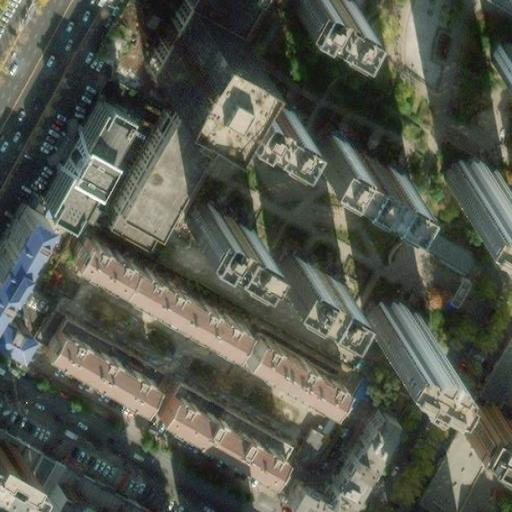building: (409, 307, 512, 511), (67, 235, 243, 352), (80, 96, 192, 237), (279, 406, 391, 512), (0, 432, 141, 512), (151, 391, 278, 479), (35, 94, 120, 214), (37, 325, 154, 409), (165, 379, 282, 454), (148, 7, 236, 99), (51, 311, 156, 380), (311, 130, 409, 203), (138, 0, 240, 69), (243, 334, 340, 404), (219, 80, 314, 151), (190, 203, 264, 263), (275, 251, 347, 310), (432, 152, 500, 207), (357, 295, 426, 349), (417, 223, 481, 275), (462, 397, 512, 459), (284, 0, 356, 37), (41, 486, 103, 512), (483, 33, 512, 85), (0, 436, 26, 488)
